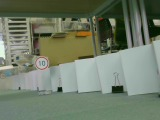speed_10: (32, 55, 51, 71)
